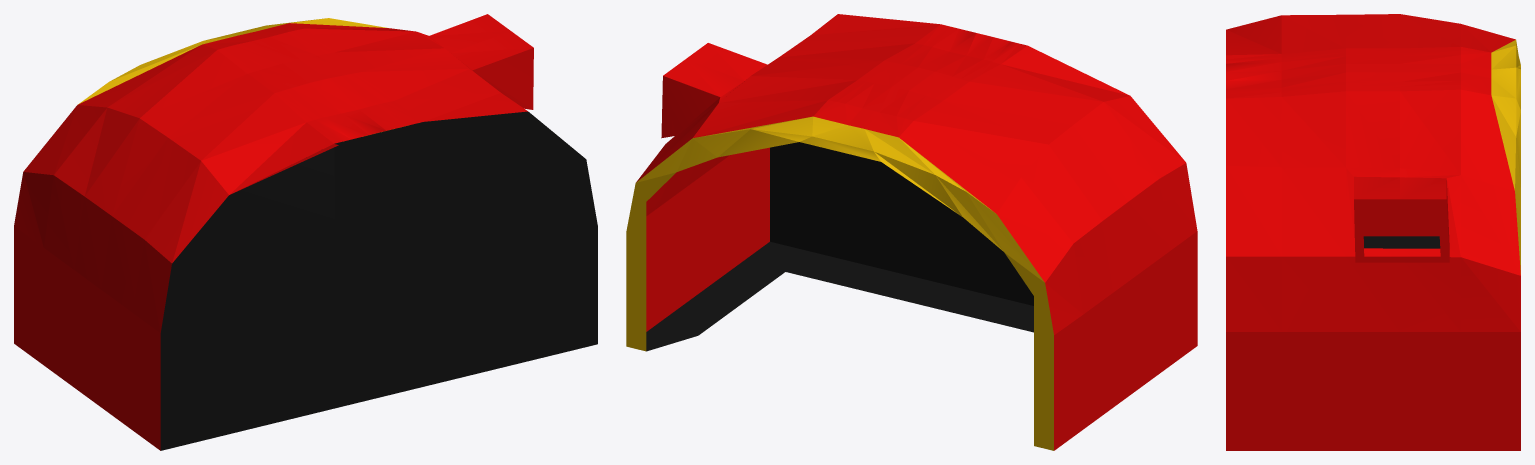
File: Cowl.1cFL.Export.glb
The picture shows the model from 3 angles, left to right: view 1: azimuth 30°, elevation 25°; view 2: azimuth 150°, elevation 25°; view 3: azimuth 270°, elevation 25°; orthographic projection. The views are drawn at different scales.
Parts seen in each view (by area): view 1: Cube.00FL; view 2: Cube.00FL; view 3: Cube.00FL.
Boxes of the visible parts, bbox=[...] form: Cube.00FL: bbox=[14, 14, 597, 450]; Cube.00FL: bbox=[626, 14, 1197, 450]; Cube.00FL: bbox=[1226, 14, 1520, 450].
Size of what is drawn, in the model's own units: 0.9375 by 0.5612 by 0.5445.
